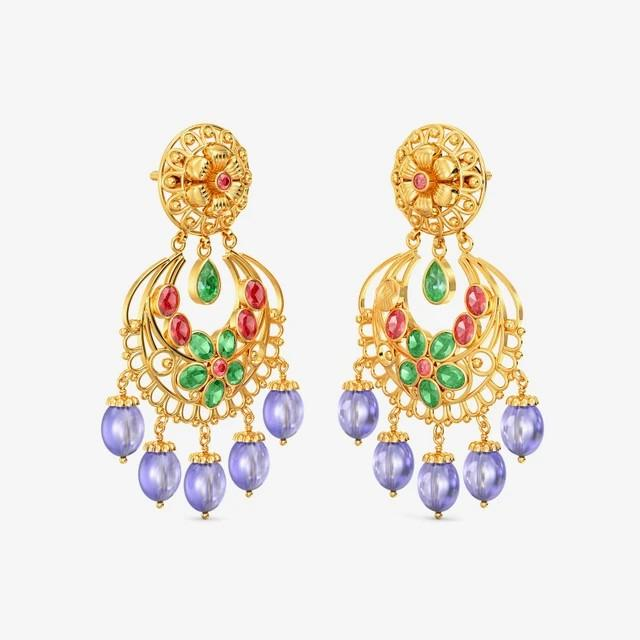missing gem: (377, 279, 398, 308)
